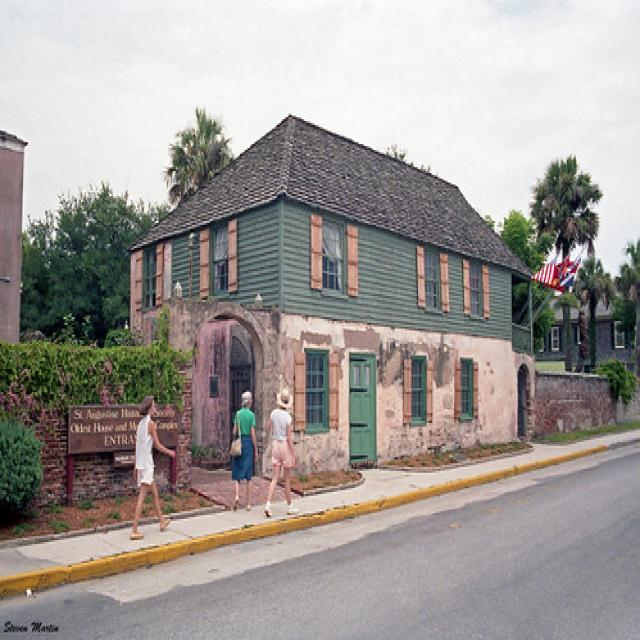Normal_building: (123, 109, 536, 478)
